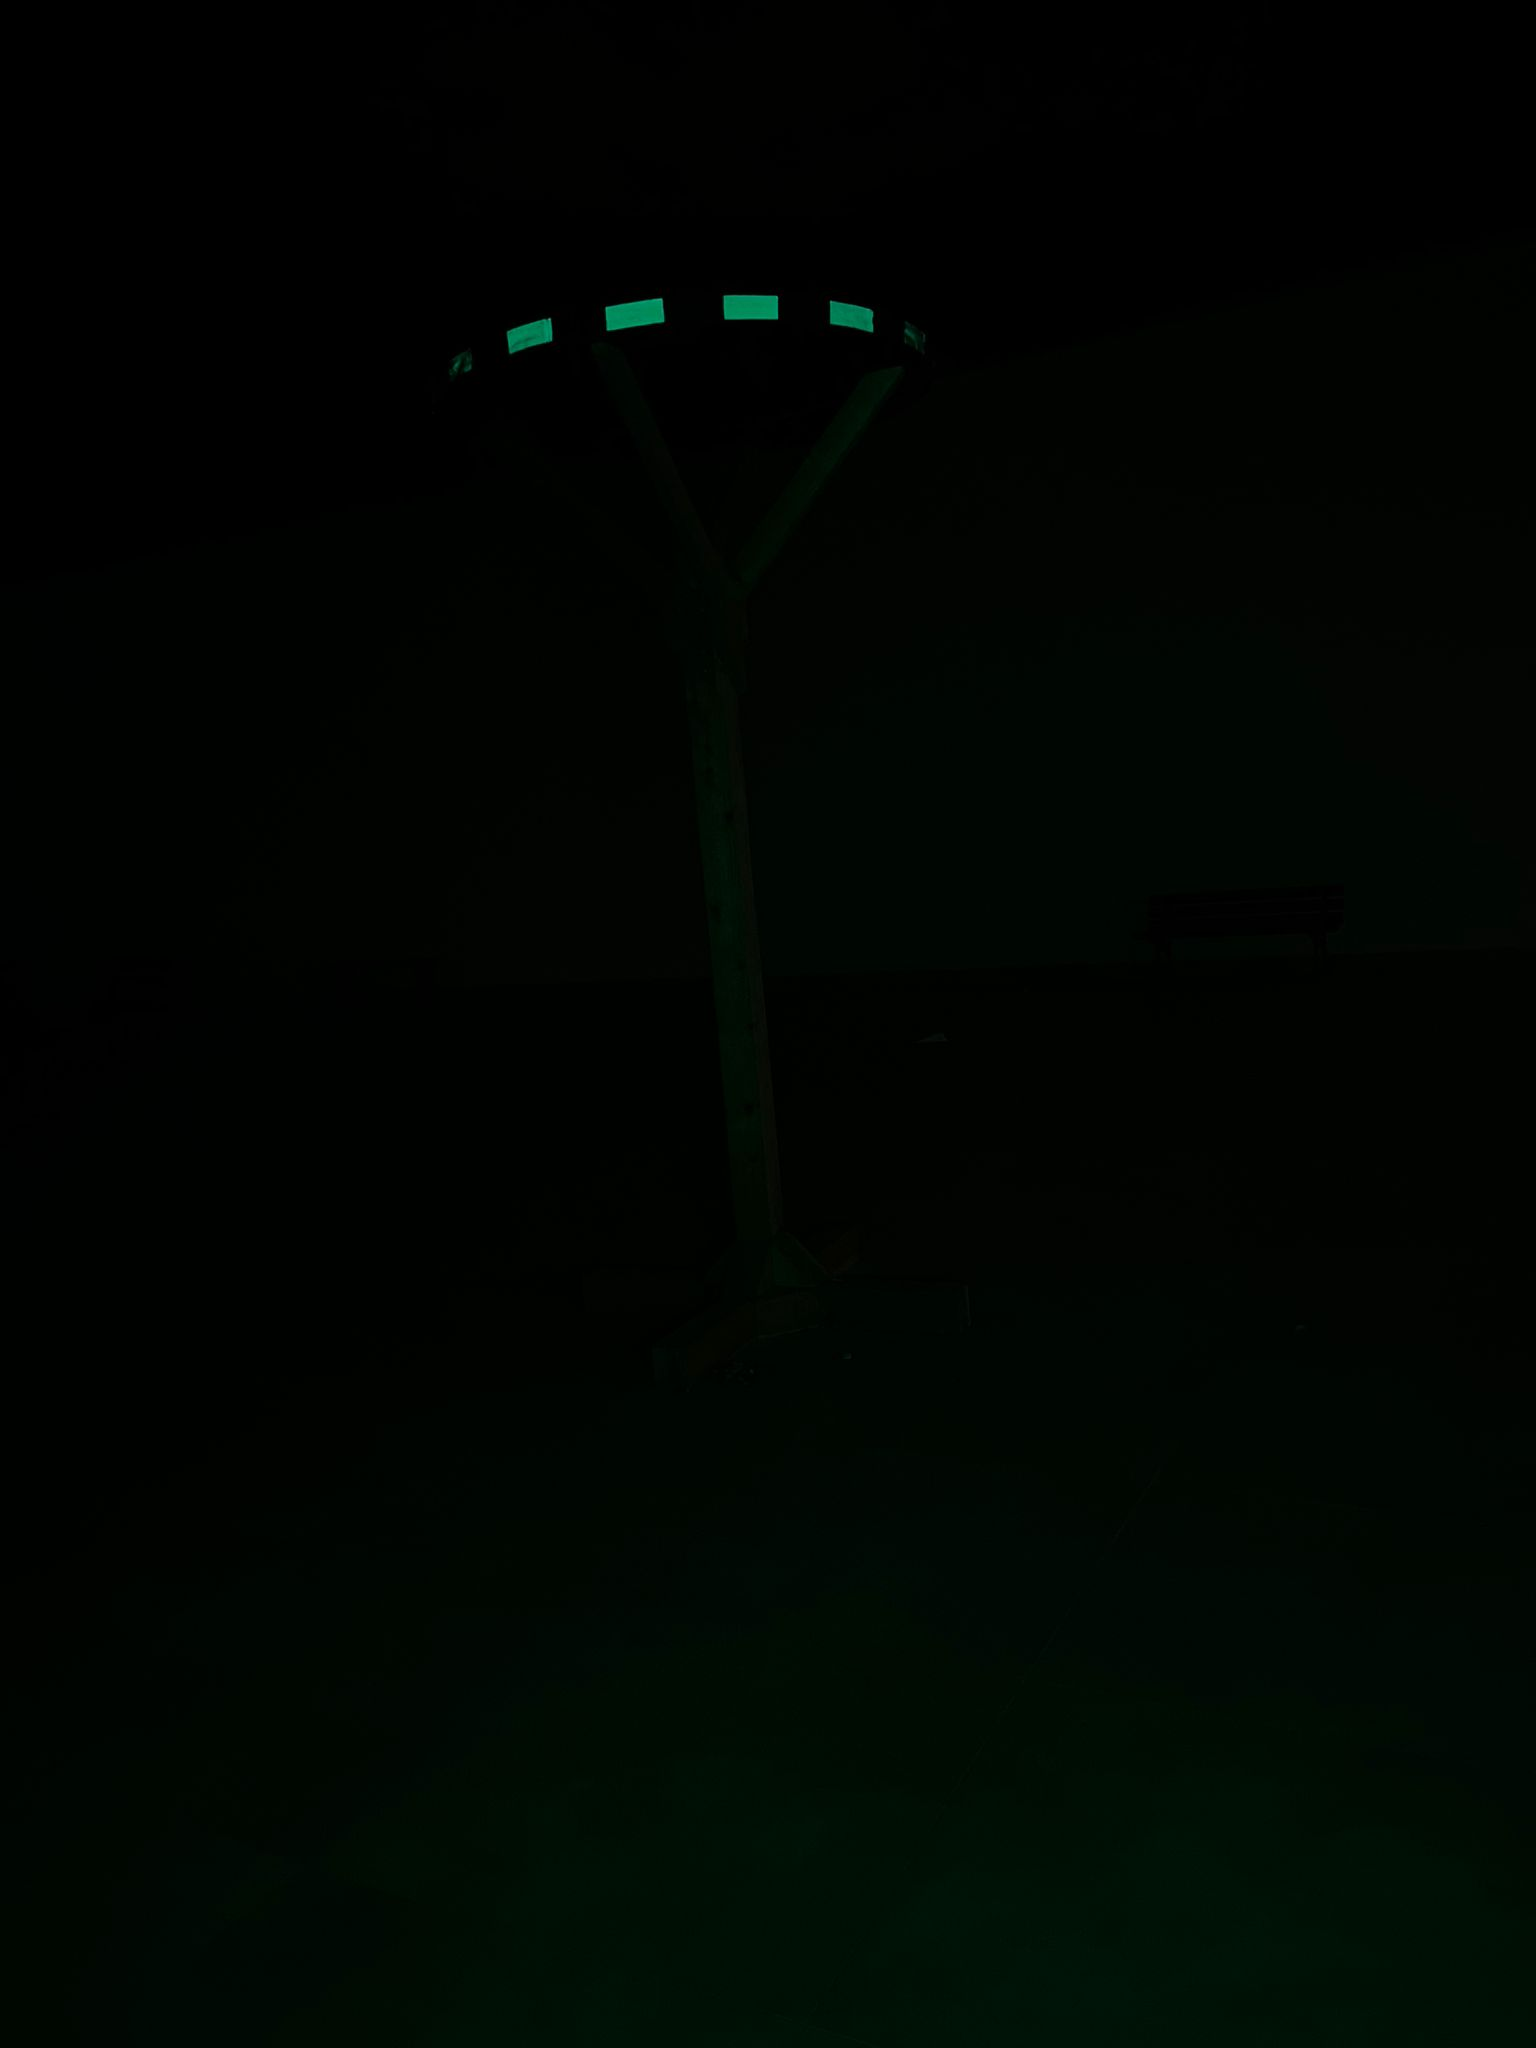hoop: (437, 287, 936, 366)
